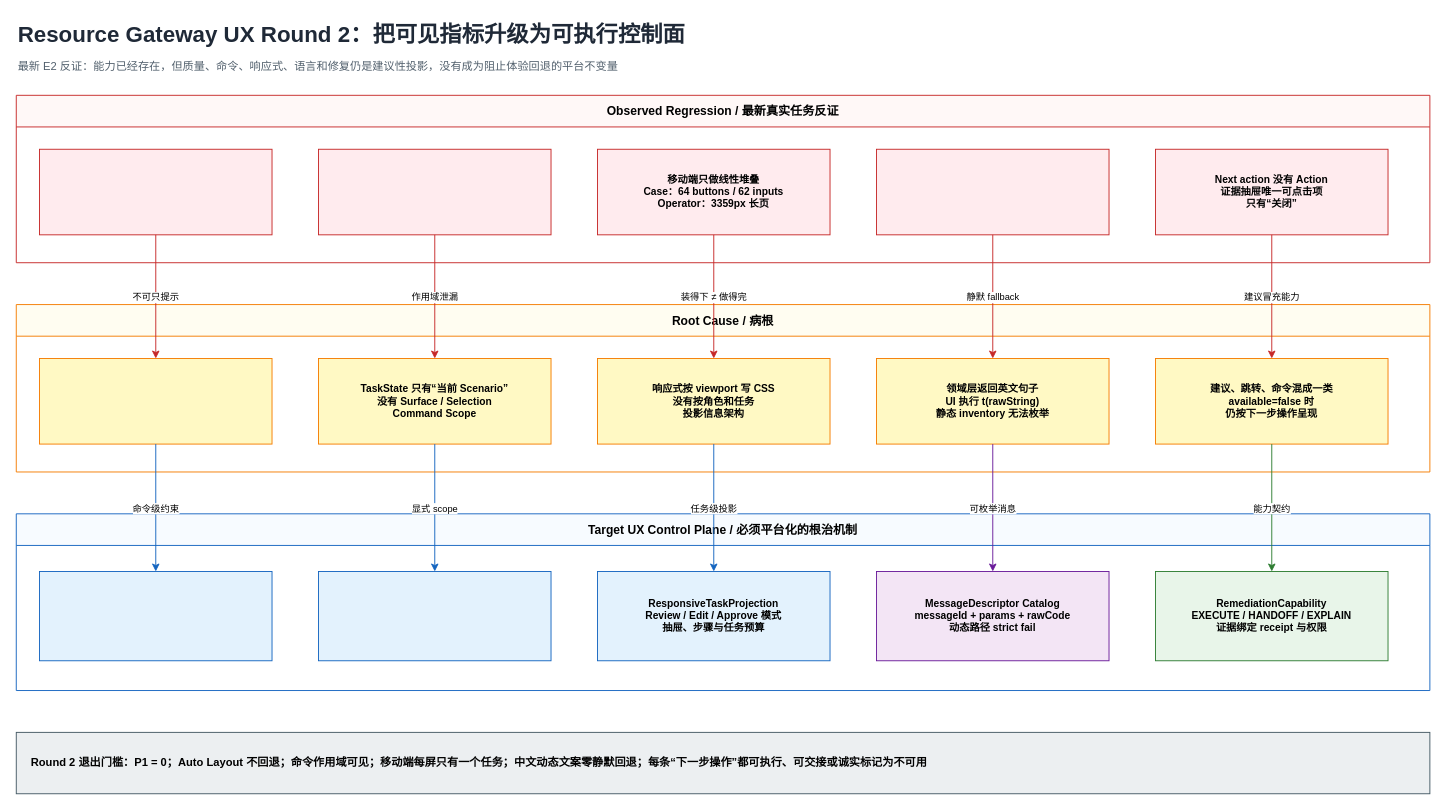
Image size: 1446x810. Some labels were removed from this diagram. The shapes that lost their labels are listed below. From the top down, each one's centre as x and y in pixels, then its label:
At (155,191): "Auto Layout 反向优化 85% PASS → 39% REVIEW 仍允许应用".
At (434,191): "Matrix 主命令作用域不可见 顶部运行单 Case 底部运行全部 / 所选".
At (992,191): "中文界面动态文案回退英文 Readiness / Runtime parity Showcase / Demo copy".
At (155,401): "质量指标与 Apply 命令脱钩 只报告候选质量 不比较 before / after".
At (155,616): "LayoutAcceptanceGate Pareto 非回退约束 失败则取消 / 换策略 / 高级覆盖".
At (434,616): "ScopeAwareCommandPolicy CURRENT / VISIBLE / SELECTED 身份与数量必须可见".
